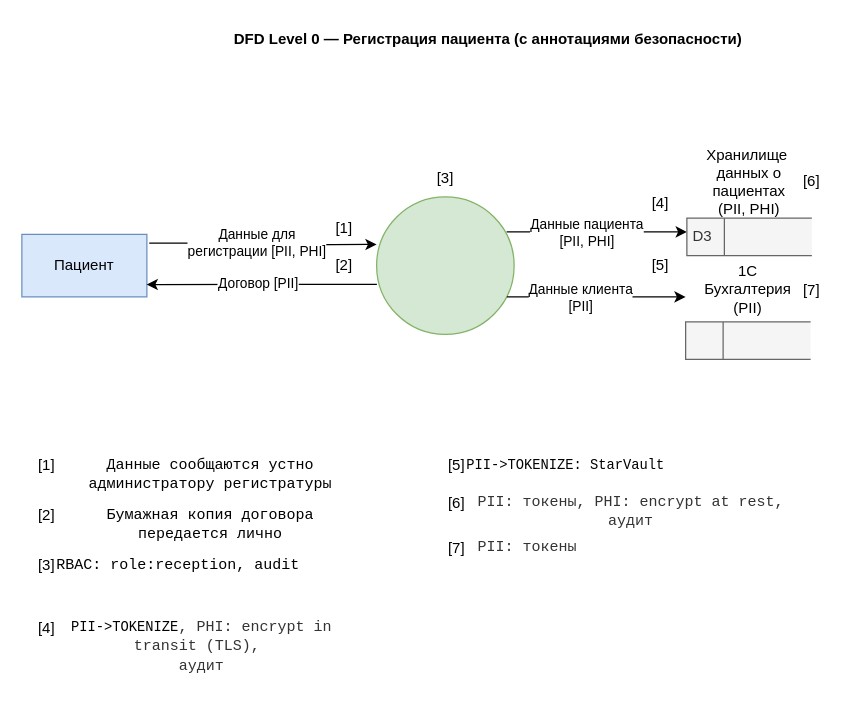
Some shapes in this 859 by 705 pixel diagram are drawn without their labels. Each missing label, with the centre of its shape:
"D4" goes at point (747, 340).
"Регистрация пациента" goes at point (444, 265).
